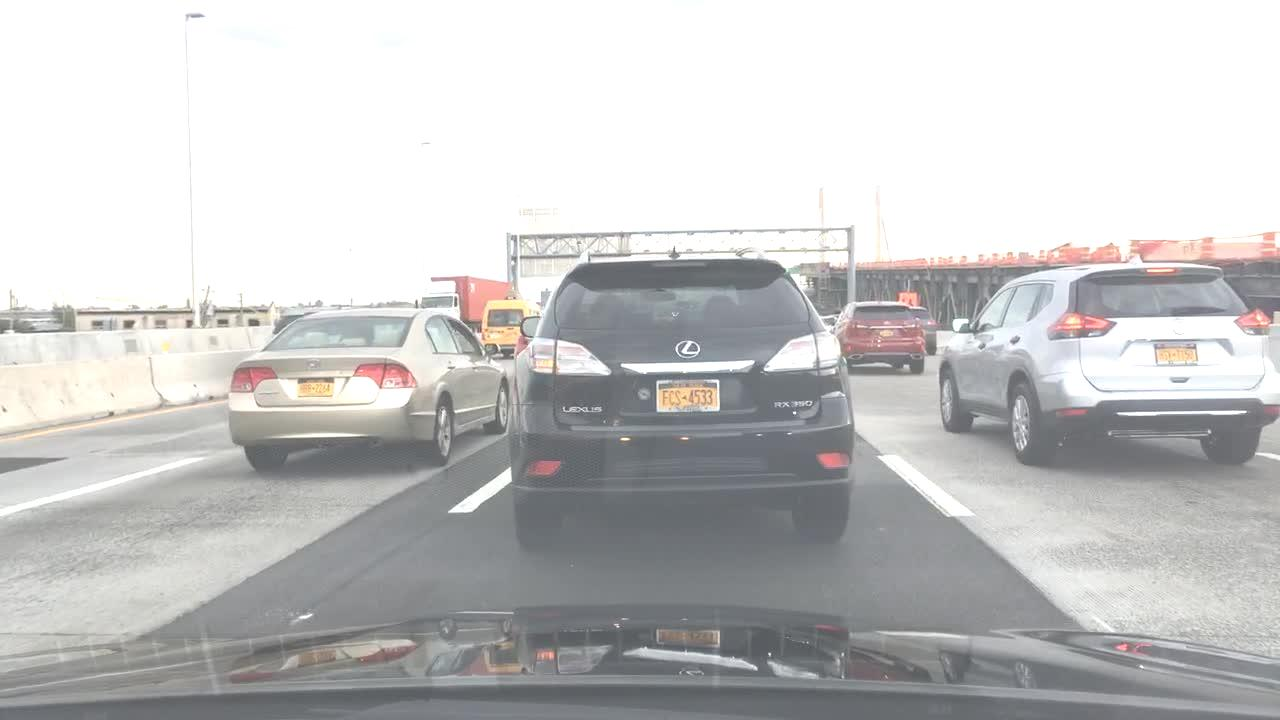lexus: (672, 330, 708, 366)
